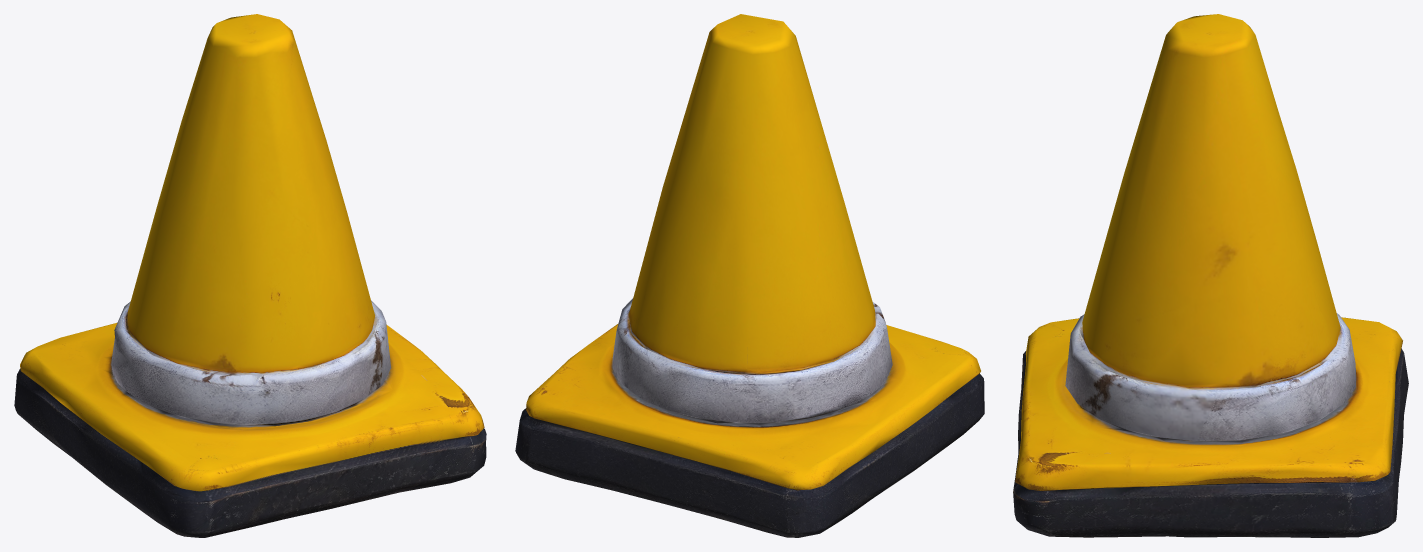
File: 19_黄色路锥_2048.fbx
3 views of the same model, side by side, from view 1: azimuth 30°, elevation 25°; view 2: azimuth 150°, elevation 25°; view 3: azimuth 270°, elevation 25° (orthographic). The views are drawn at different scales.
Parts seen in each view (by area): view 1: tripo_node_31abfb70; view 2: tripo_node_31abfb70; view 3: tripo_node_31abfb70.
Boxes of the visible parts, x1=… form: tripo_node_31abfb70: x1=14, y1=14, x2=486, y2=537; tripo_node_31abfb70: x1=515, y1=14, x2=984, y2=537; tripo_node_31abfb70: x1=1013, y1=14, x2=1408, y2=537.
Size of the model in its own units: 0.795 by 0.9805 by 0.8109.
